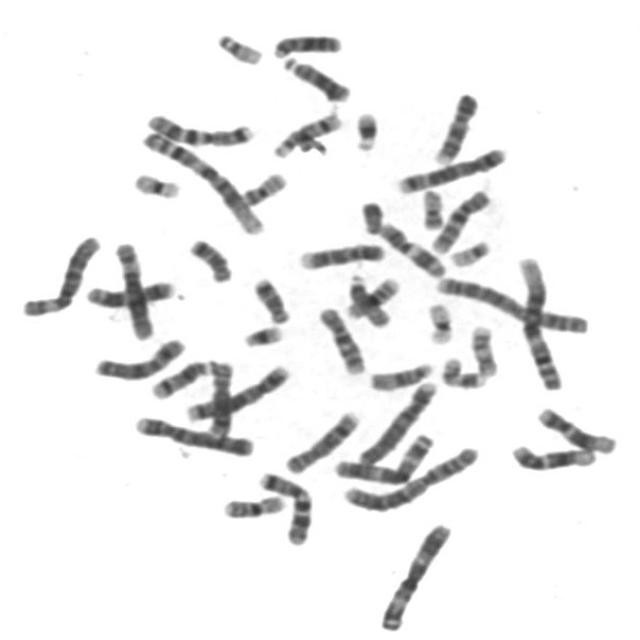A1: (134, 124, 267, 237), (510, 250, 566, 391)
A2: (336, 440, 483, 514), (430, 269, 594, 335)
A3: (372, 516, 456, 632), (326, 426, 436, 486)
B4: (350, 372, 440, 468), (127, 409, 257, 459)
B5: (179, 358, 293, 424), (390, 141, 510, 195)
C10: (425, 183, 494, 255), (310, 300, 369, 377)
C11: (373, 216, 449, 280), (79, 273, 178, 310)
C12: (530, 400, 620, 456), (504, 437, 599, 472)
C6: (15, 228, 104, 318), (108, 235, 158, 341)
C7: (250, 464, 316, 547), (139, 106, 257, 148)
C8: (277, 404, 363, 476), (202, 354, 236, 439)
C9: (426, 85, 482, 166), (291, 236, 388, 271)
D13: (276, 51, 353, 104), (266, 26, 344, 59)
D14: (266, 104, 345, 160), (145, 354, 215, 400)
D15: (339, 269, 394, 328), (362, 355, 436, 392)
E16: (339, 271, 402, 321), (215, 488, 288, 520)
E17: (464, 318, 501, 379), (434, 350, 488, 390)
E18: (182, 232, 235, 284), (246, 270, 292, 324)
F19: (125, 166, 184, 200), (418, 295, 456, 346)
F20: (234, 165, 289, 208), (414, 182, 447, 231)
G21: (347, 104, 382, 153), (235, 318, 286, 349)
G22: (210, 27, 265, 66), (443, 234, 494, 268)
X: (87, 331, 188, 382)
Y: (353, 194, 386, 235)
